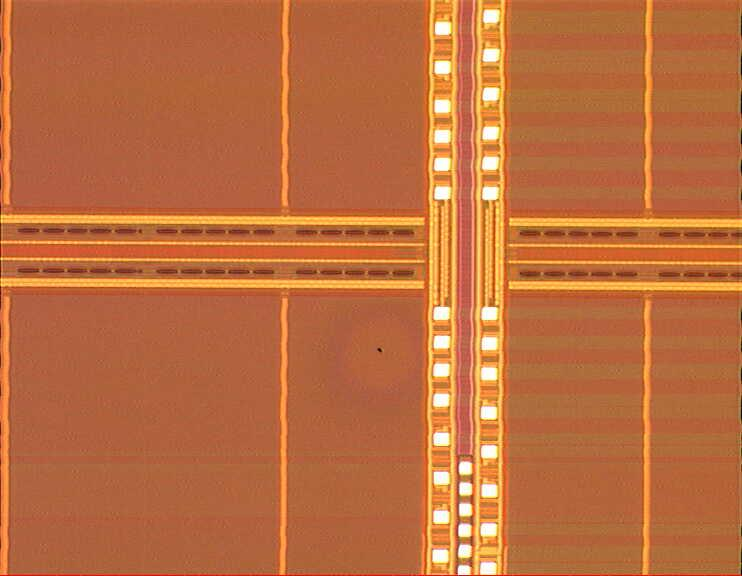PIQ PARTICLE: (378, 348, 386, 356)
